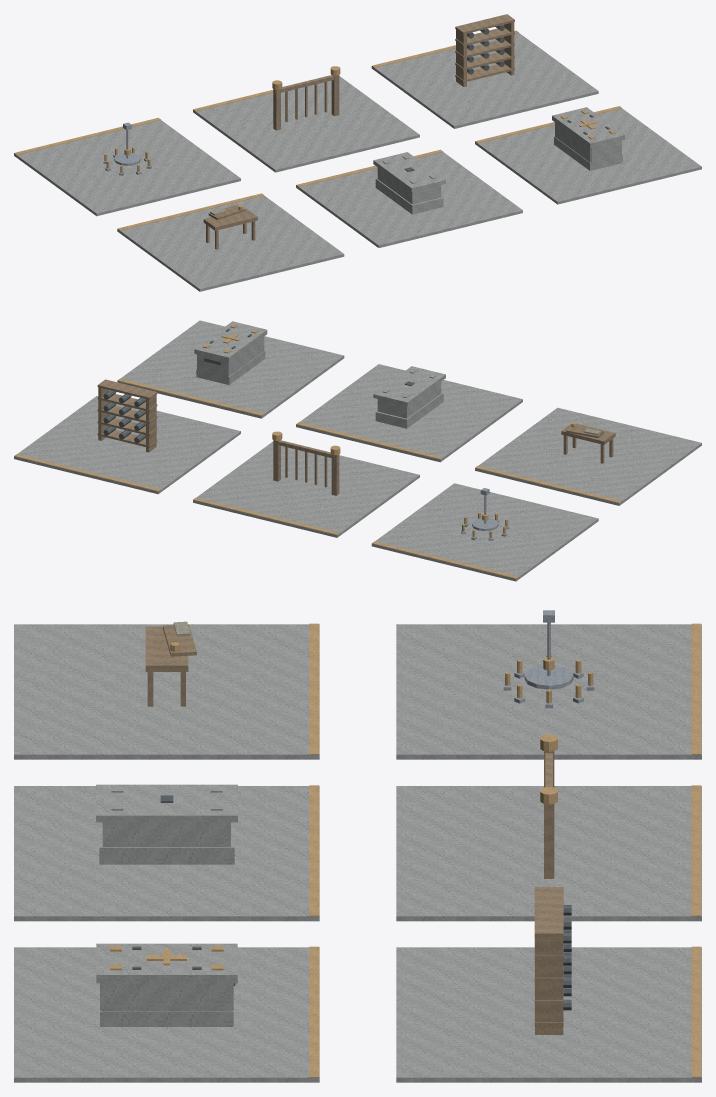
The model's file is level_blockout_kit_castle_p03.glb.
The picture shows the model from 3 angles, top to bottom: view 1: azimuth 30°, elevation 25°; view 2: azimuth 150°, elevation 25°; view 3: azimuth 270°, elevation 25°; orthographic projection. The views are drawn at different scales.
Visible parts, largest first — view 1: level_blockout_kit_castle_p03; view 2: level_blockout_kit_castle_p03; view 3: level_blockout_kit_castle_p03.
Boxes of the visible parts, left/top/right/bottom form: level_blockout_kit_castle_p03: left=14, top=14, right=701, bottom=291; level_blockout_kit_castle_p03: left=14, top=320, right=701, bottom=581; level_blockout_kit_castle_p03: left=14, top=610, right=701, bottom=1082.
Size of the model in its own units: 19.65 by 2.17 by 12.6.
6 materials, 6 textured.
